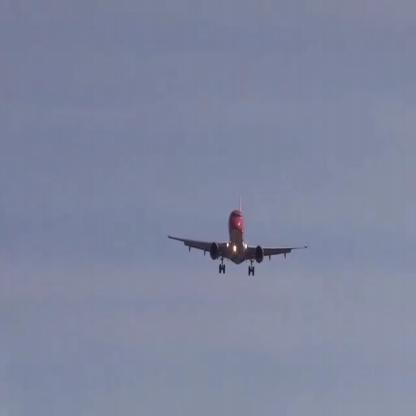CIV_Plane: (167, 208, 309, 276)
